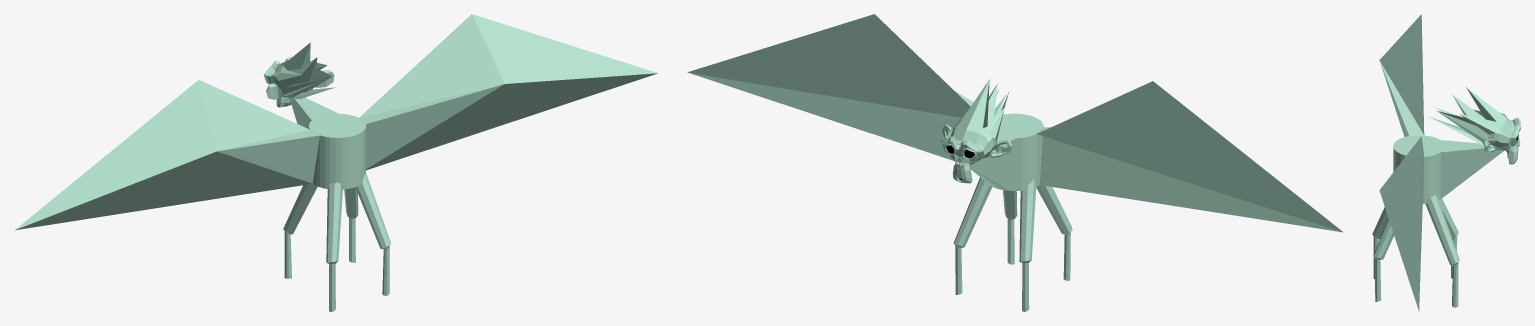
The model's file is ggg.fbx.
The picture shows the model from 3 angles, left to right: view 1: azimuth 30°, elevation 25°; view 2: azimuth 150°, elevation 25°; view 3: azimuth 270°, elevation 25°; orthographic projection. The views are drawn at different scales.
Visible parts, largest first — view 1: Cylinder.005; view 2: Cylinder.005; view 3: Cylinder.005.
Part boxes in pixels (<box>): Cylinder.005: <box>15,14,657,311</box>; Cylinder.005: <box>687,14,1343,311</box>; Cylinder.005: <box>1372,14,1520,311</box>.
Bounding box in the file's own units: 2598 × 923 × 571.
